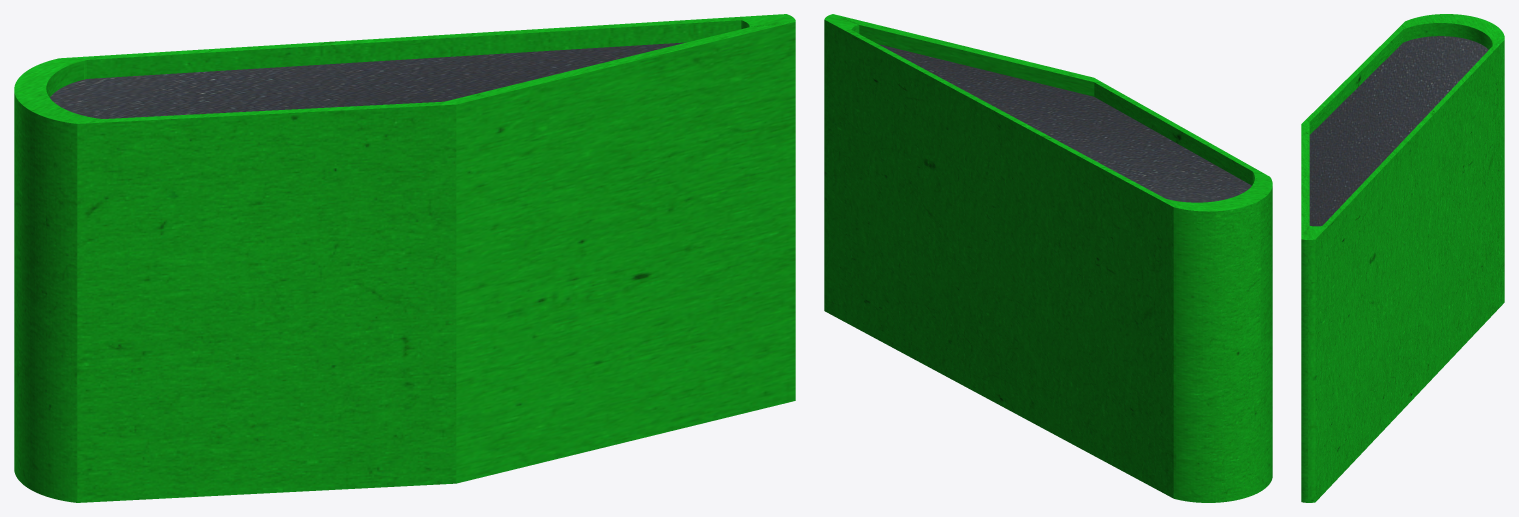
Rendered from LeftFlipper.obj.
3 renders of one model, left to right at view 1: azimuth 30°, elevation 25°; view 2: azimuth 150°, elevation 25°; view 3: azimuth 270°, elevation 25°, orthographic. The views are drawn at different scales.
Parts seen in each view (by area): view 1: Flipper_Cube.037, FLipeprIn_Cube.027; view 2: Flipper_Cube.037, FLipeprIn_Cube.027; view 3: Flipper_Cube.037, FLipeprIn_Cube.027.
Boxes of the visible parts, x1,y1,x2,y2 form: Flipper_Cube.037: (14,14,795,502); FLipeprIn_Cube.027: (50,42,686,118); Flipper_Cube.037: (824,14,1272,502); FLipeprIn_Cube.027: (878,44,1251,202); Flipper_Cube.037: (1301,14,1504,502); FLipeprIn_Cube.027: (1309,36,1488,226).
Bounding box in the file's own units: 0.9223 × 0.5 × 0.3509.
3 materials, 3 textured.
